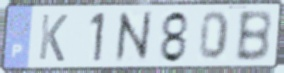0: (199, 9, 232, 63)
1: (88, 10, 108, 65)
8: (158, 8, 190, 65)
B: (233, 9, 274, 63)
K: (37, 12, 70, 64)
N: (114, 9, 153, 65)
